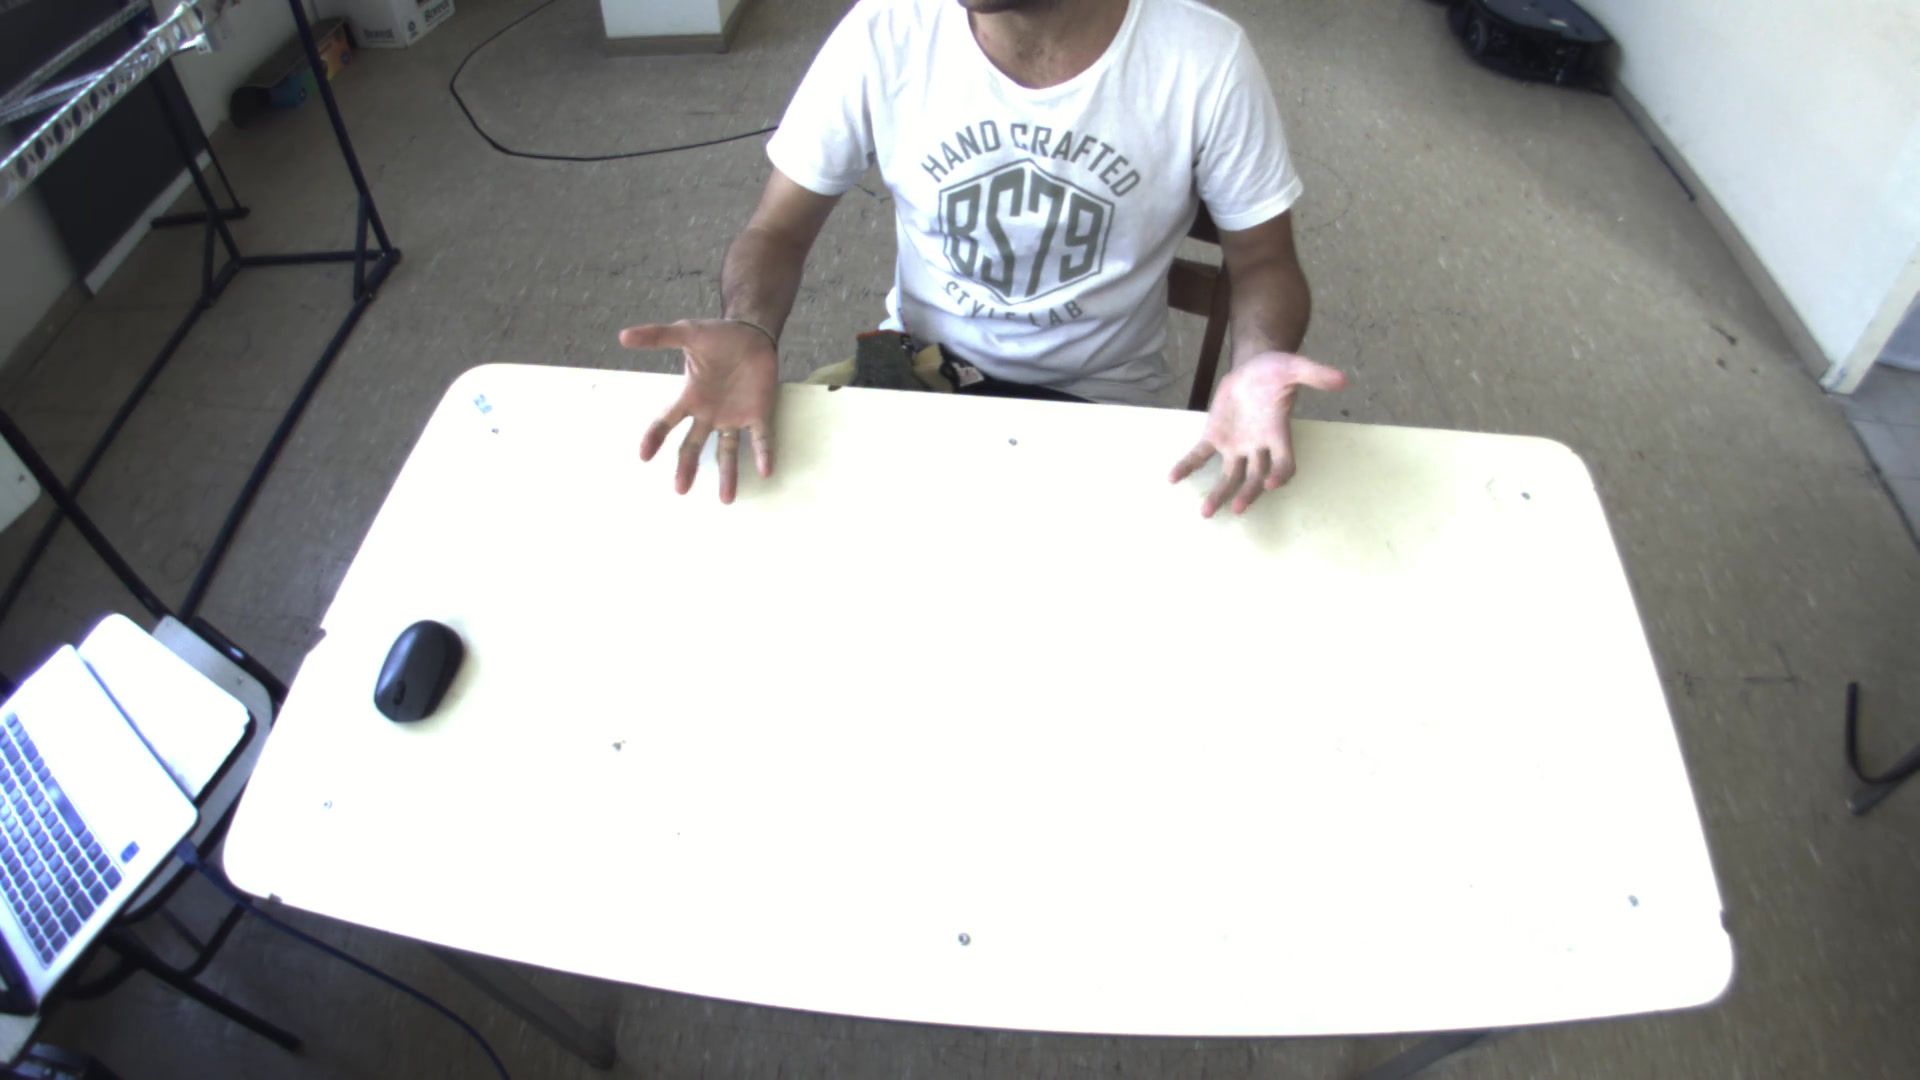hand: (611, 295, 793, 505), (1164, 336, 1360, 520)
